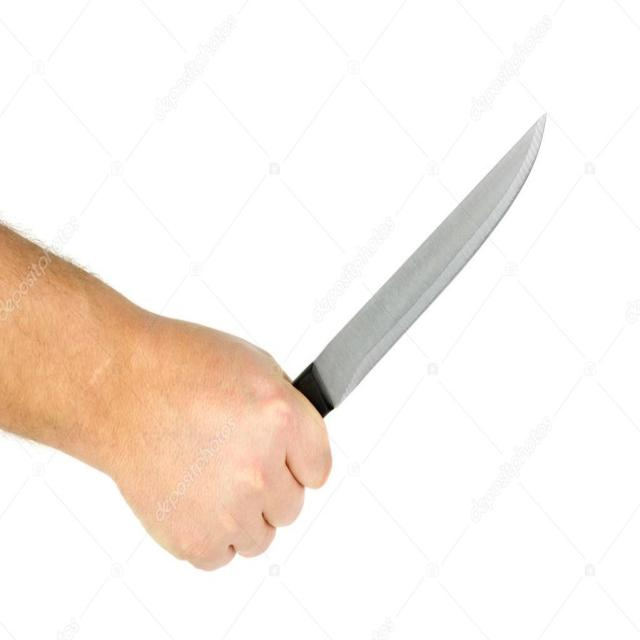knife: (301, 107, 558, 430)
